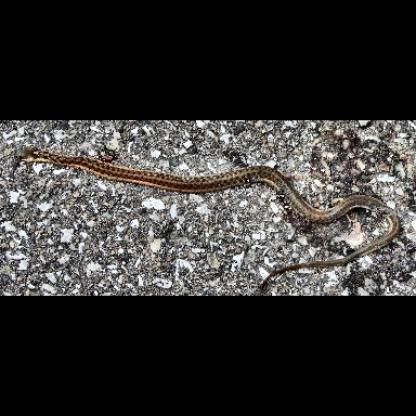Snake: (15, 142, 401, 282)
